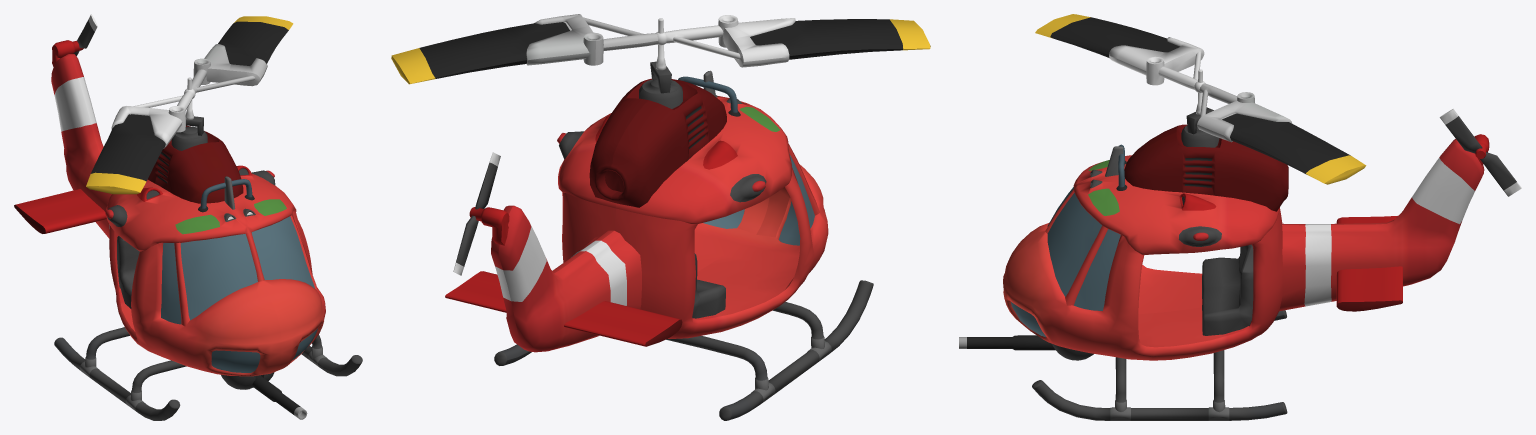
File: Helicopter.fbx
3 renders of one model, left to right at view 1: azimuth 30°, elevation 25°; view 2: azimuth 150°, elevation 25°; view 3: azimuth 270°, elevation 25°, orthographic. The views are drawn at different scales.
Visible parts, largest first — view 1: body, Interior, Propeller1, Gun1, Gun2, Propeller2; view 2: body, Propeller1, Interior, Propeller2; view 3: body, Interior, Propeller1, Propeller2, Gun1.
Boxes of the visible parts, x1,y1,x2,y2 form: body: (14,40,325,376); Interior: (54,216,362,420); Propeller1: (86,16,293,194); Gun1: (252,375,307,419); Gun2: (221,372,274,389); Propeller2: (73,14,97,56); body: (445,70,828,352); Propeller1: (391,14,930,108); Interior: (494,154,873,420); Propeller2: (453,152,500,275); body: (1003,124,1489,360); Interior: (1011,187,1287,420); Propeller1: (1035,14,1366,184); Propeller2: (1439,109,1521,196); Gun1: (959,335,1055,350).
Size of the model in its own units: 17.57 by 14.64 by 24.72.
Materials: 1 (1 with a texture image).
